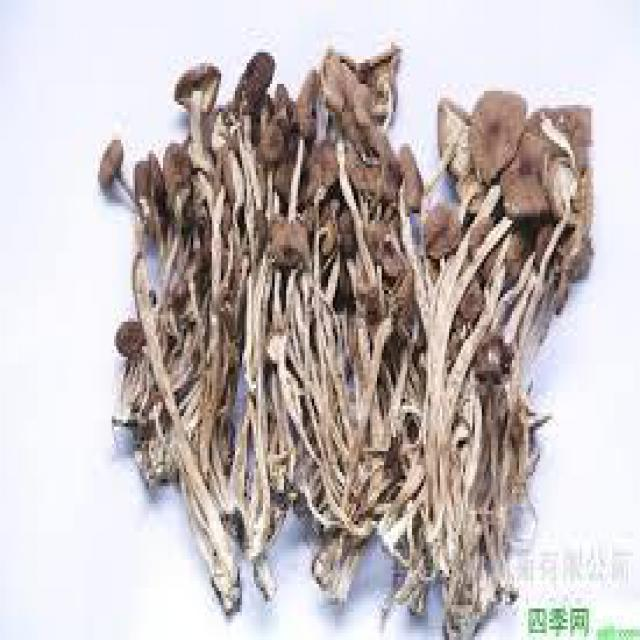Agrocybe aegerita: (95, 52, 591, 634)
